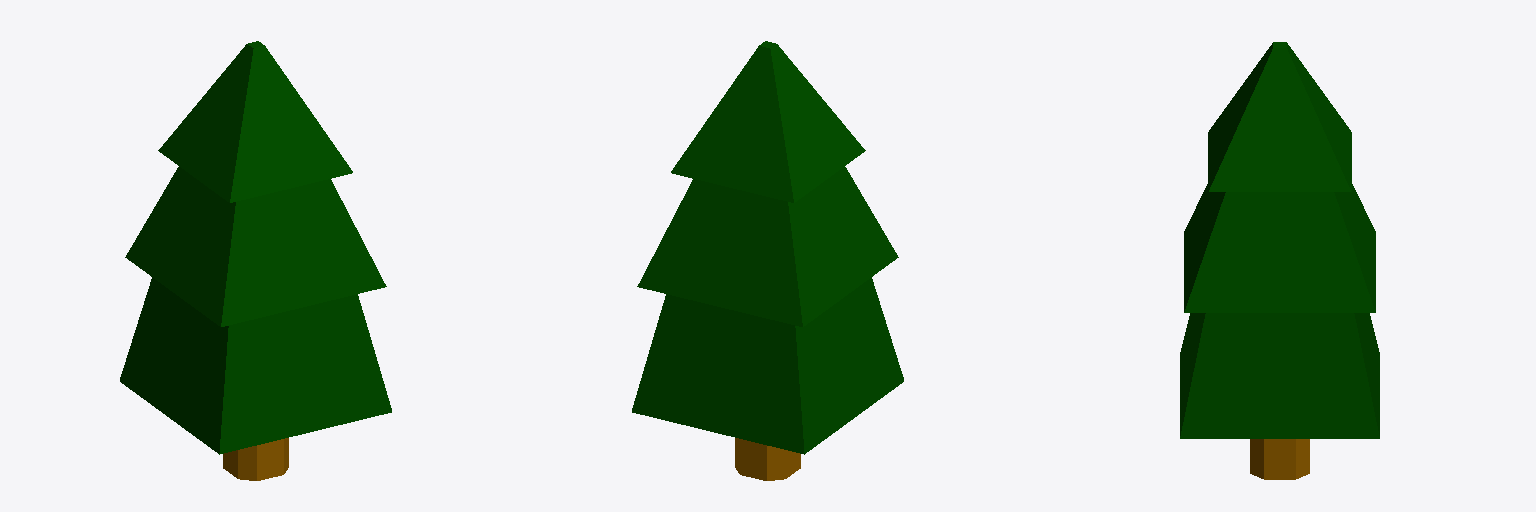
The model's file is tree.obj.
The picture shows the model from 3 angles: view 1: azimuth 30°, elevation 25°; view 2: azimuth 150°, elevation 25°; view 3: azimuth 270°, elevation 25°; orthographic projection.
Parts seen in each view (by area): view 1: Cube.001; view 2: Cube.001; view 3: Cube.001.
Boxes of the visible parts, x1,y1,x2,y2 form: Cube.001: [120, 41, 391, 480]; Cube.001: [632, 41, 903, 480]; Cube.001: [1180, 42, 1379, 479].
Bounding box in the file's own units: 0.8672 × 2.02 × 0.8672.